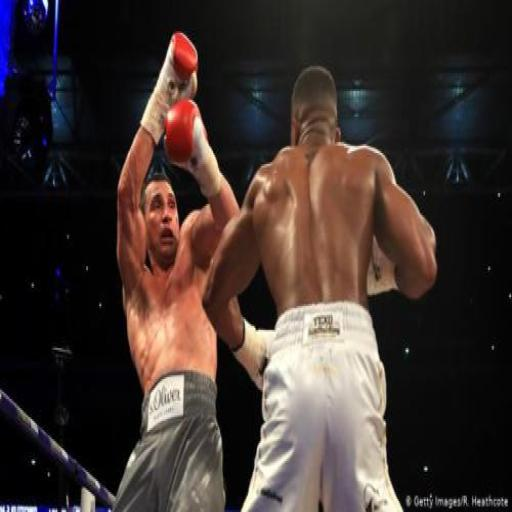boxing: (70, 51, 512, 512)
